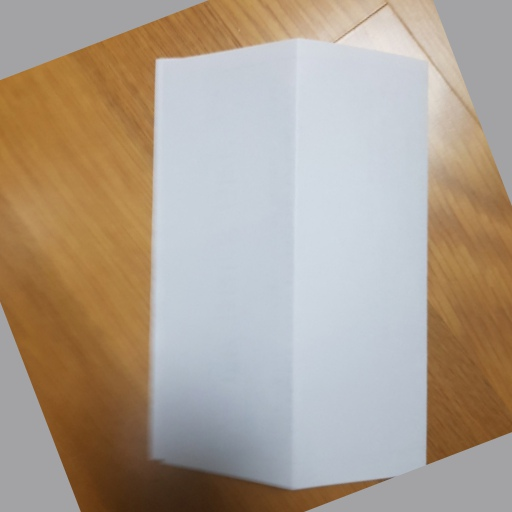Paper_3: (147, 32, 443, 494)
